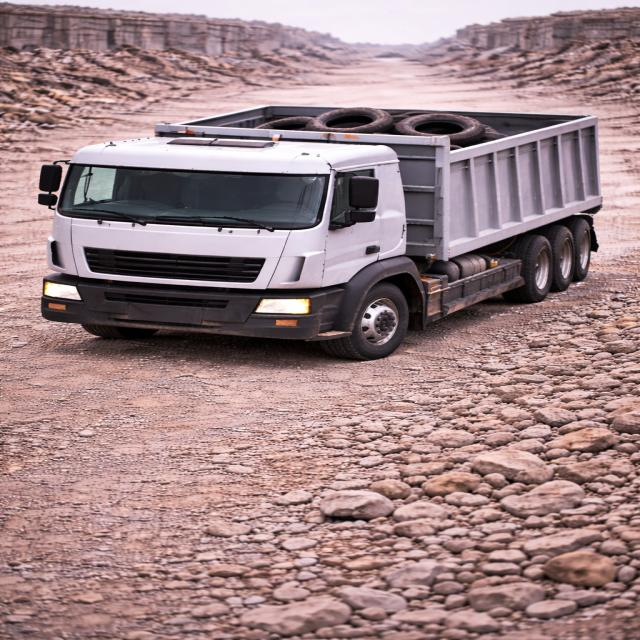trailer: (163, 107, 597, 151)
truck: (36, 86, 615, 353)
